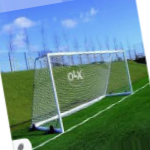goals: (27, 48, 135, 134)
